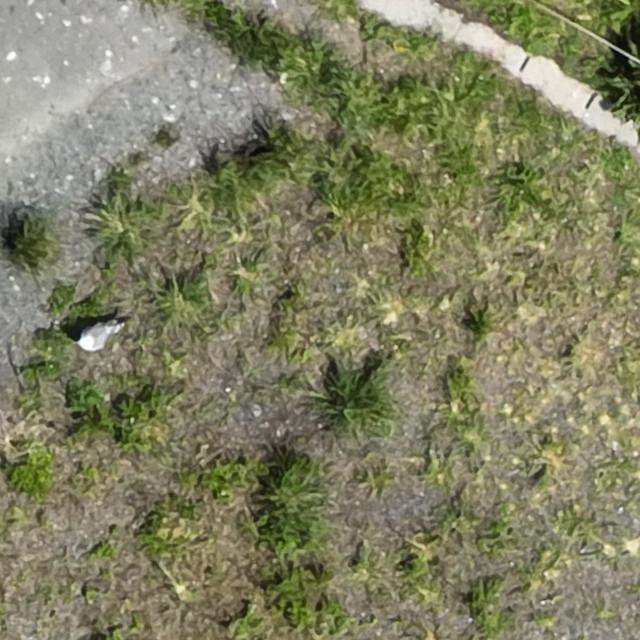umineko: (80, 324, 114, 349)
